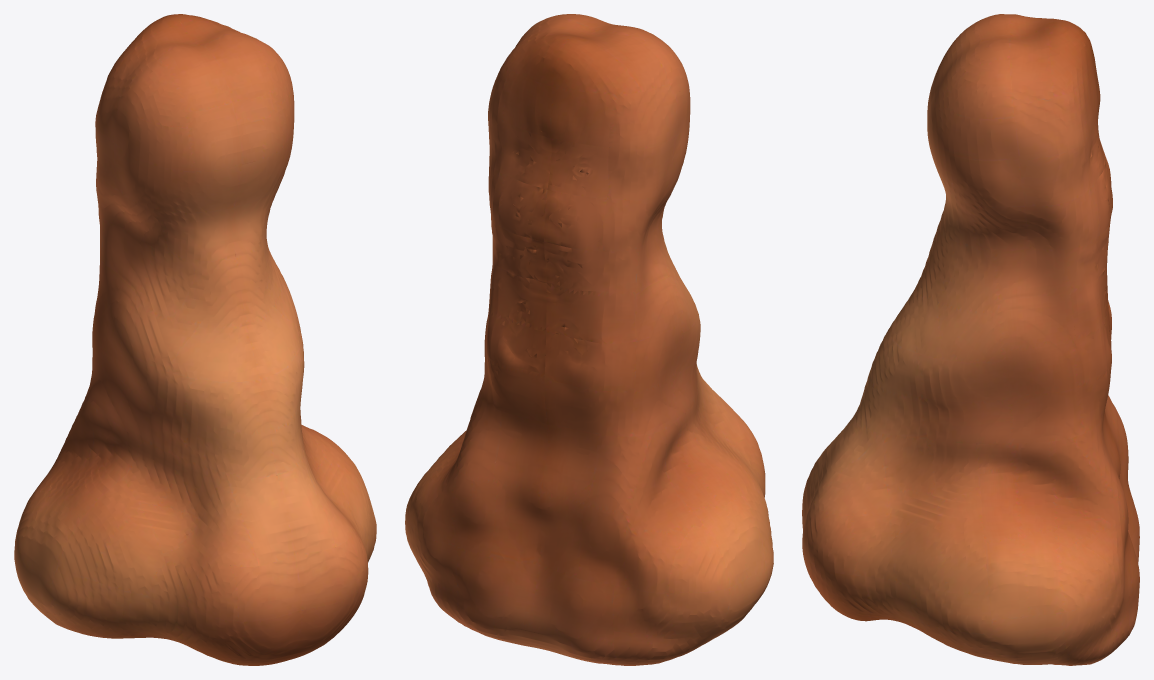
File: nose.glb
3 views of the same model, side by side, from view 1: azimuth 30°, elevation 25°; view 2: azimuth 150°, elevation 25°; view 3: azimuth 270°, elevation 25° (orthographic).
Parts seen in each view (by area): view 1: Layer_1; view 2: Layer_1; view 3: Layer_1.
Part boxes in pixels (x1=…): Layer_1: x1=14, y1=14, x2=376, y2=665; Layer_1: x1=405, y1=14, x2=773, y2=665; Layer_1: x1=802, y1=14, x2=1139, y2=665.
Bounding box in the file's own units: 0.4592 × 0.8115 × 0.4114.
1 material, 1 textured.
